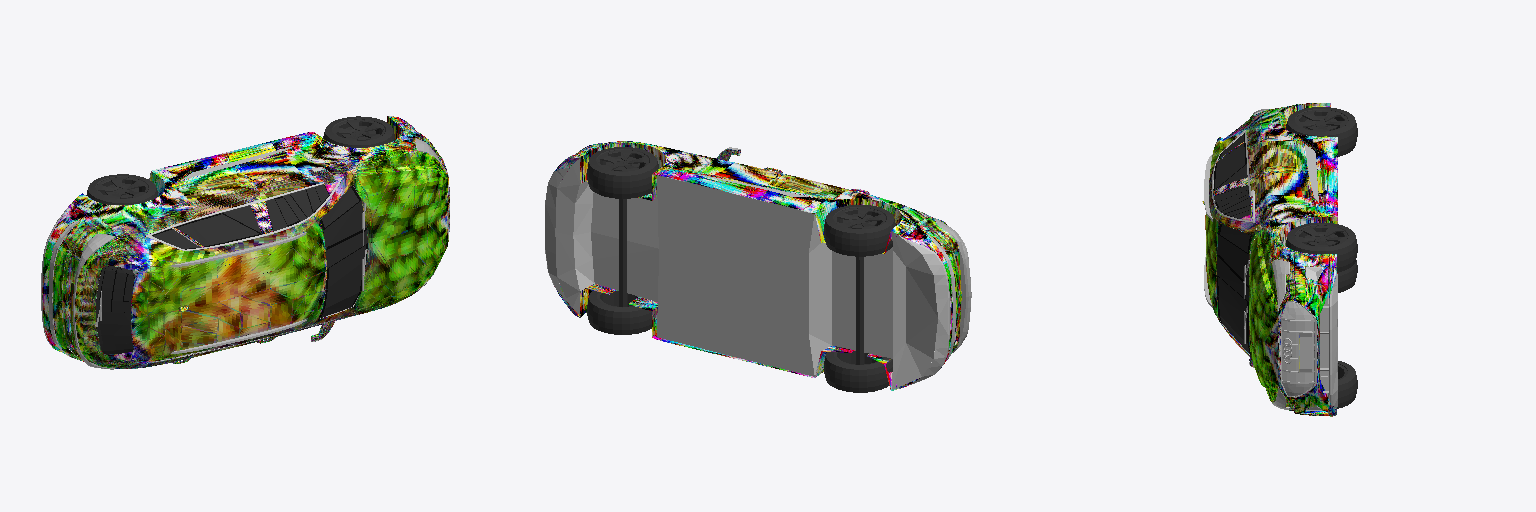
3 renders of one model, left to right at view 1: azimuth 30°, elevation 25°; view 2: azimuth 150°, elevation 25°; view 3: azimuth 270°, elevation 25°, orthographic.
Size of the model in its own units: 2 by 0.8373 by 0.6793.
1 materials, 1 textured.